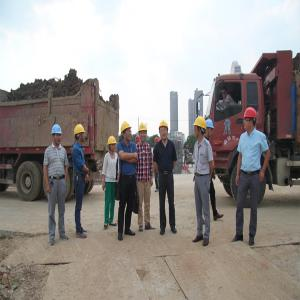blue: (52, 124, 64, 146), (205, 120, 215, 138)
none: (222, 87, 229, 98)
red: (244, 107, 258, 132), (155, 138, 160, 145), (137, 136, 141, 144), (187, 145, 189, 150)
yellow: (194, 117, 207, 139), (74, 124, 86, 143), (122, 122, 134, 141), (160, 120, 170, 141), (140, 123, 148, 143), (109, 137, 118, 153)
